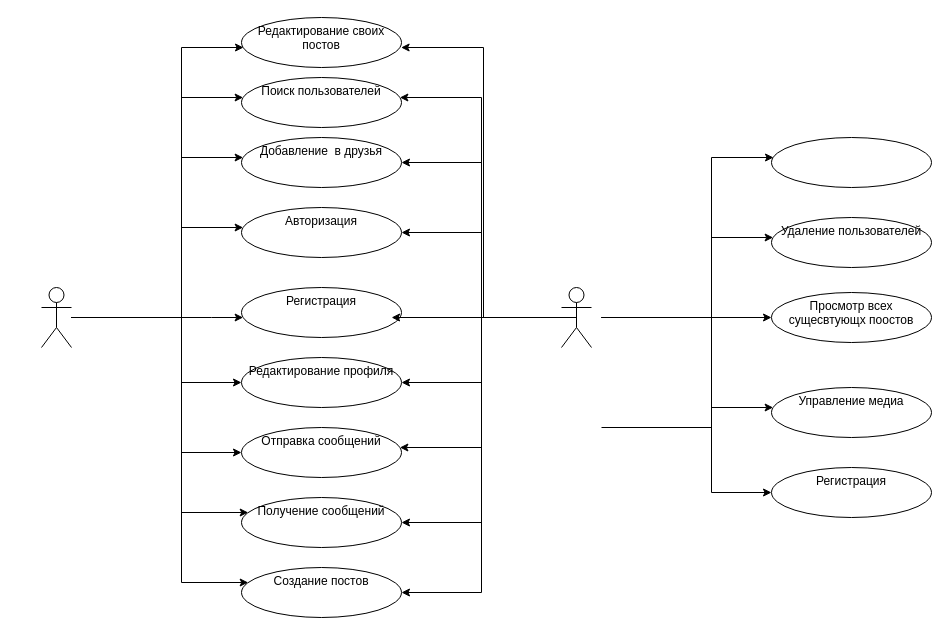
The diagram is 949 pixels wide and 635 high, and some of its shapes have lost their labels. The centre of each missing label's shape, as x and y in pixels:
Администратор: (x=576, y=317)
Пользователь: (x=56, y=317)
Удаление постов пользователей: (x=851, y=162)
